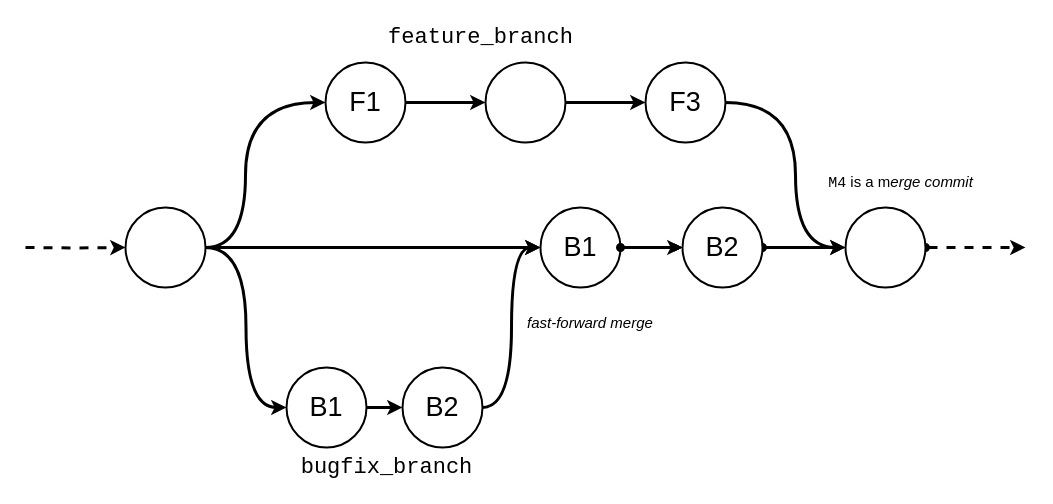
This 1053x504 diagram has some shape labels left out. Each missing label, with the centre of its shape:
"F2" belongs at point 525,102.
"M1" belongs at point 165,247.
"M4" belongs at point 885,247.
